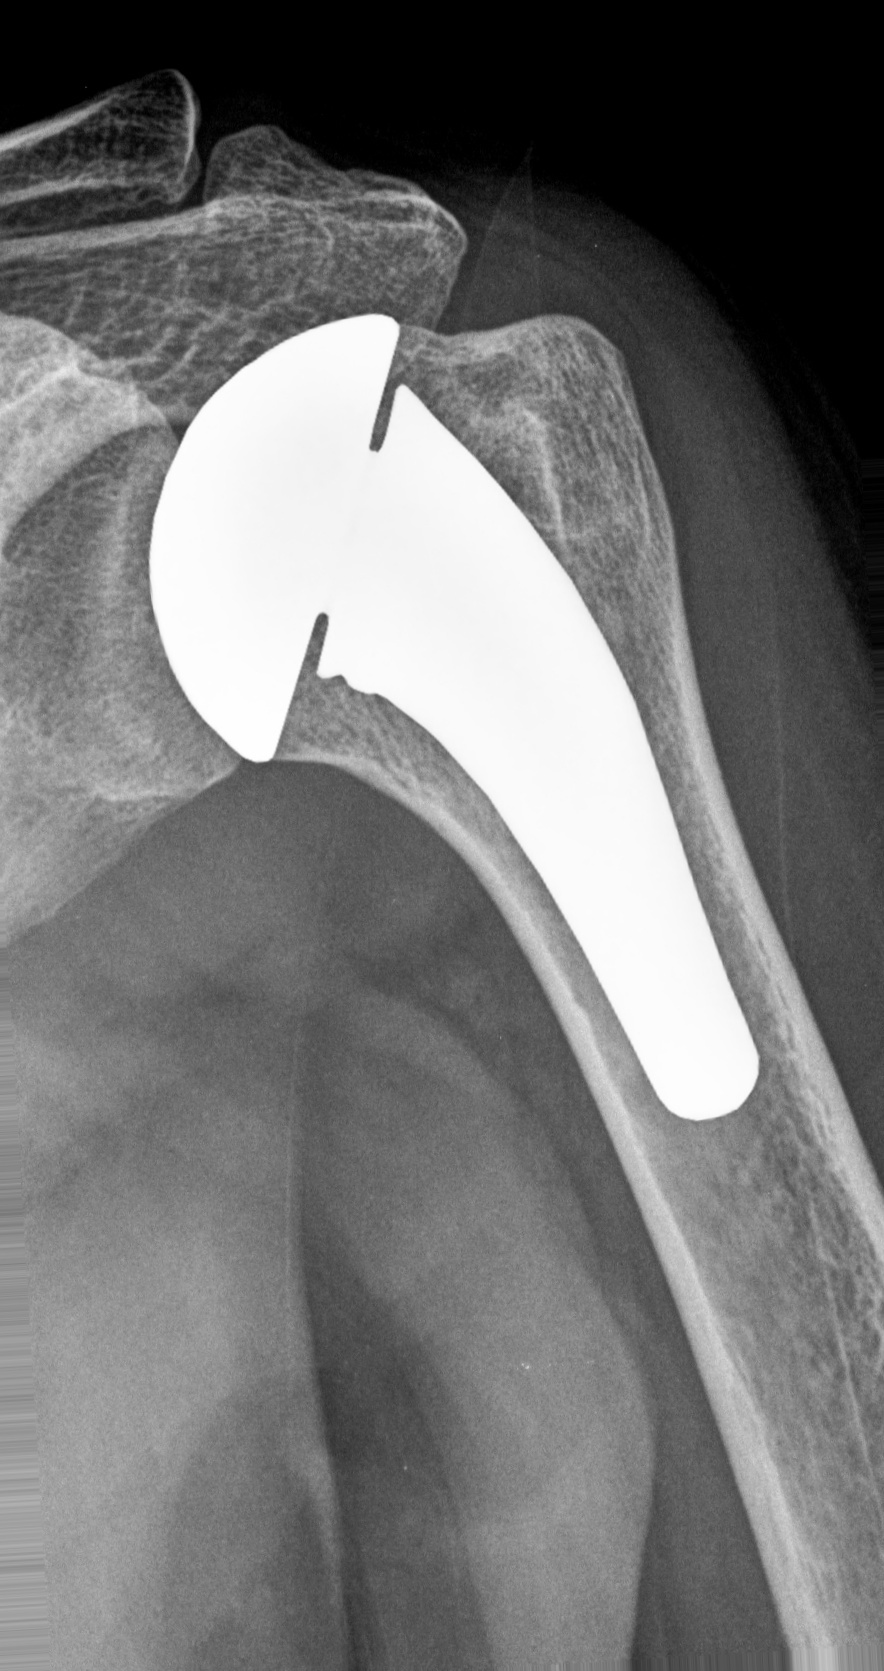Shoulder - AequalisAscendFlex - Tornier: (126, 277, 418, 781)
